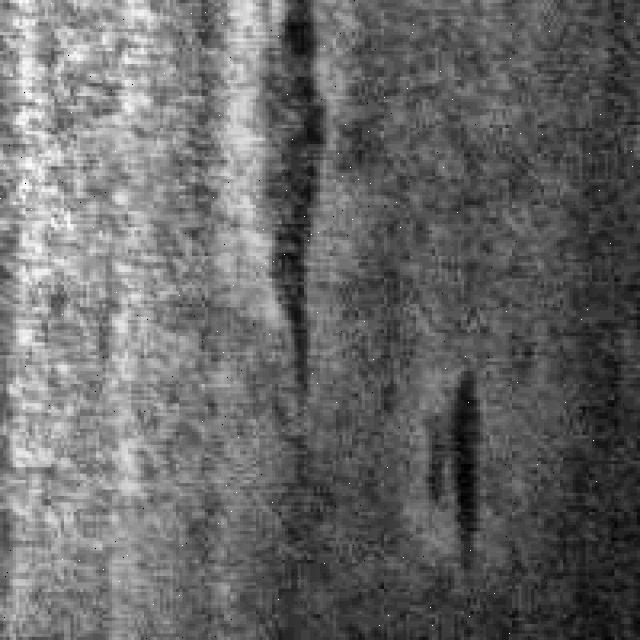Patches: (236, 0, 342, 410), (403, 346, 499, 572)
